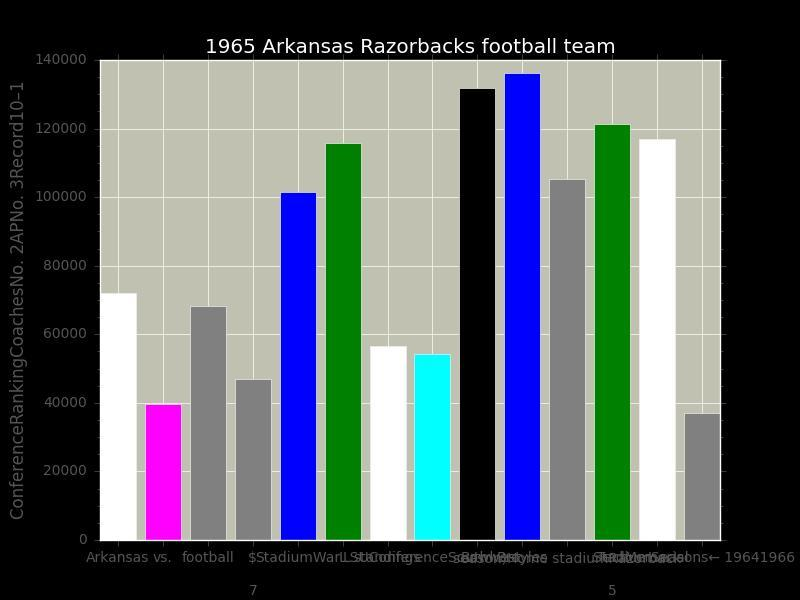axis: (10, 54, 88, 546)
rectangle: (504, 73, 540, 540), (460, 88, 496, 540), (594, 124, 630, 540), (639, 139, 675, 540), (324, 143, 360, 540), (549, 179, 585, 540), (280, 192, 316, 540), (100, 293, 136, 540), (190, 306, 226, 540), (370, 346, 406, 540), (415, 354, 450, 540), (235, 379, 271, 540), (145, 404, 181, 540), (684, 413, 720, 540)
